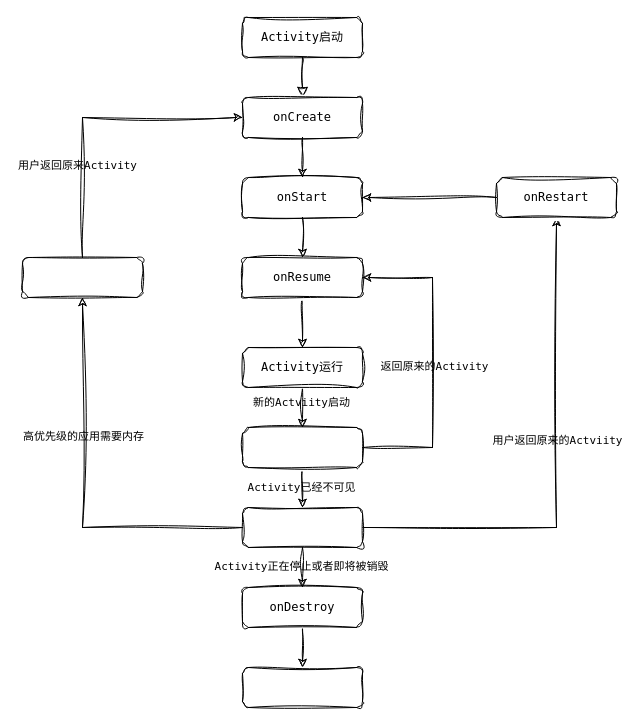
Image size: 639x725. Some labels were removed from this diagram. Each missing label, with the box of its shape:
Activity被销毁: (242, 666, 362, 708)
onPause: (242, 426, 362, 468)
onStop: (242, 506, 362, 548)
应用被杀死: (22, 256, 142, 298)
